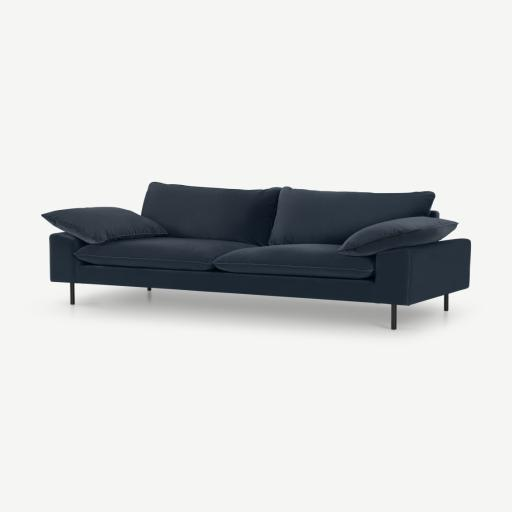back_cushion: (143, 182, 435, 246)
base: (77, 265, 374, 302)
left_arm: (373, 239, 470, 329)
legs: (391, 305, 397, 330), (70, 283, 74, 305), (444, 294, 448, 311), (147, 288, 151, 291)
right_arm: (50, 233, 87, 304)
seat_cushion: (78, 237, 374, 278)
two-seater: (0, 0, 511, 512)
